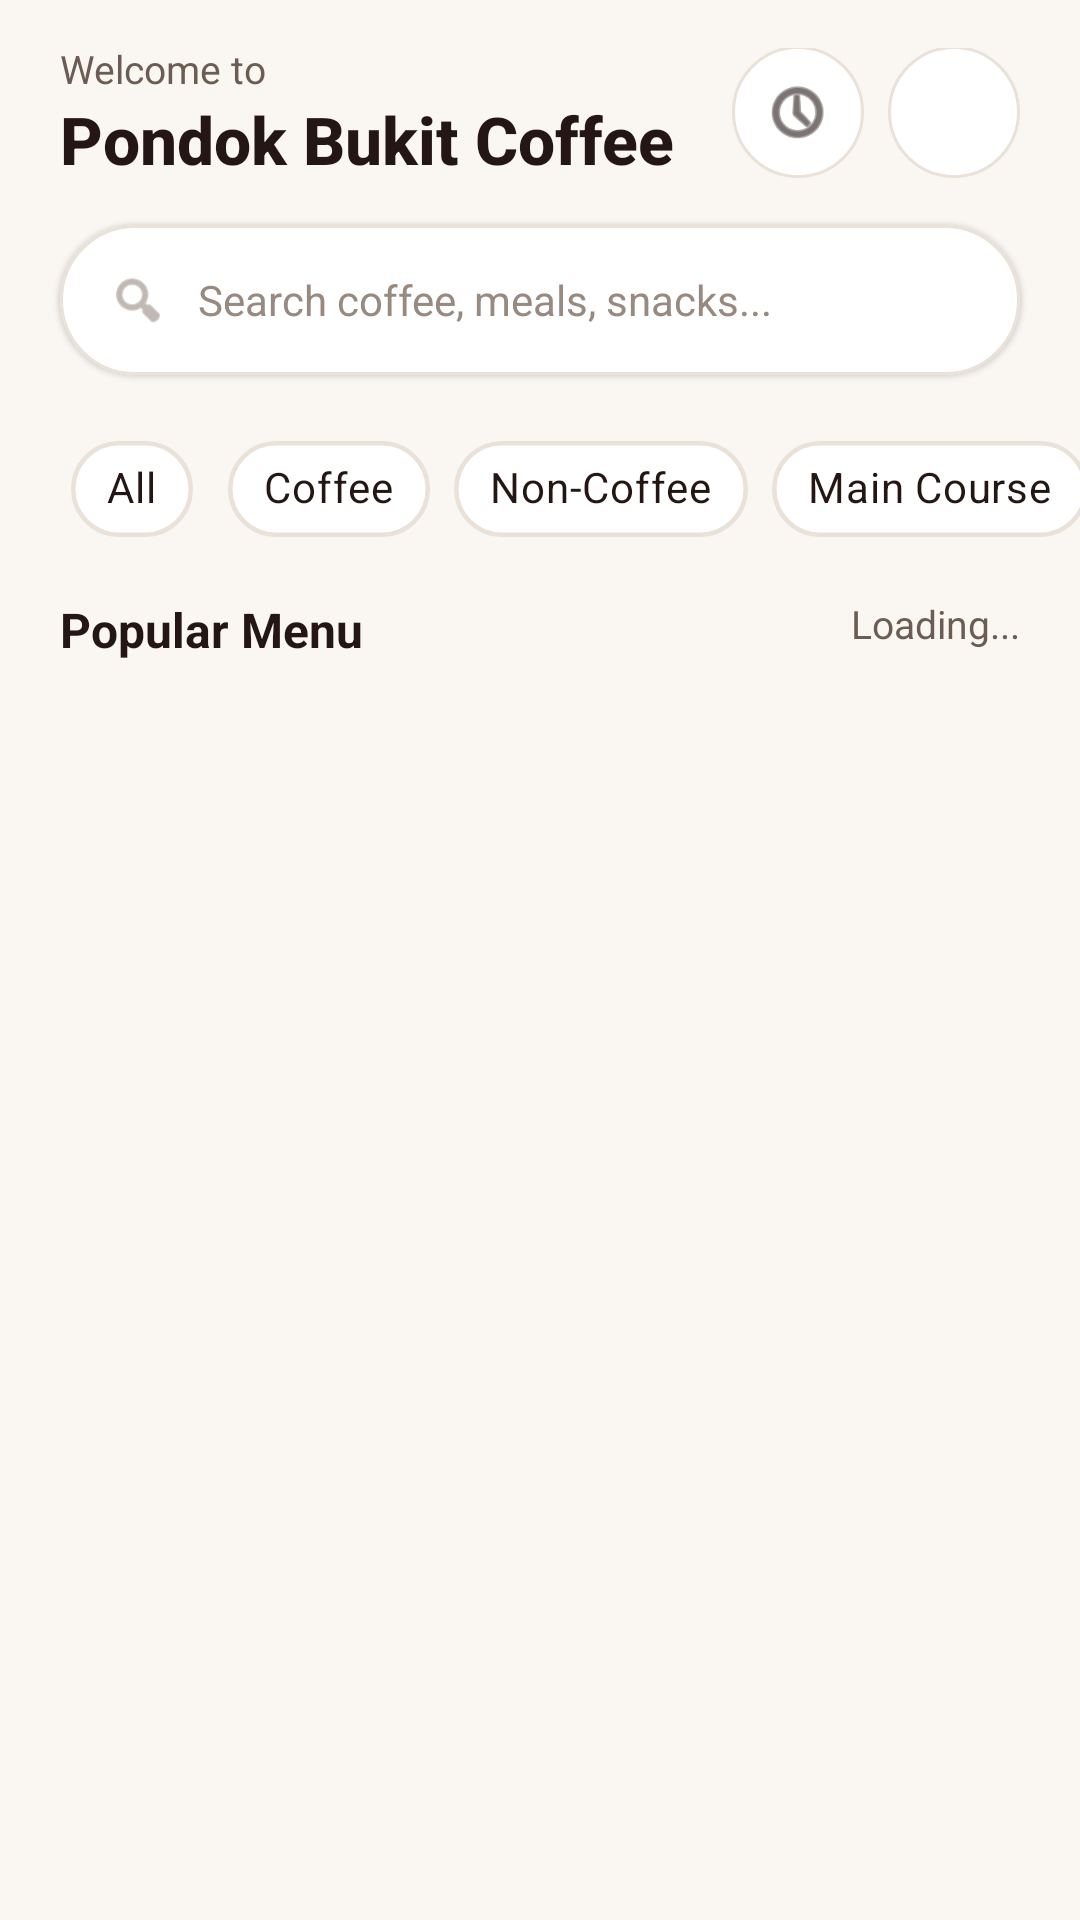

Where to tap for icons on this 1080 x 1920 app screen, as point (x, y):
recent history: point (798, 112)
